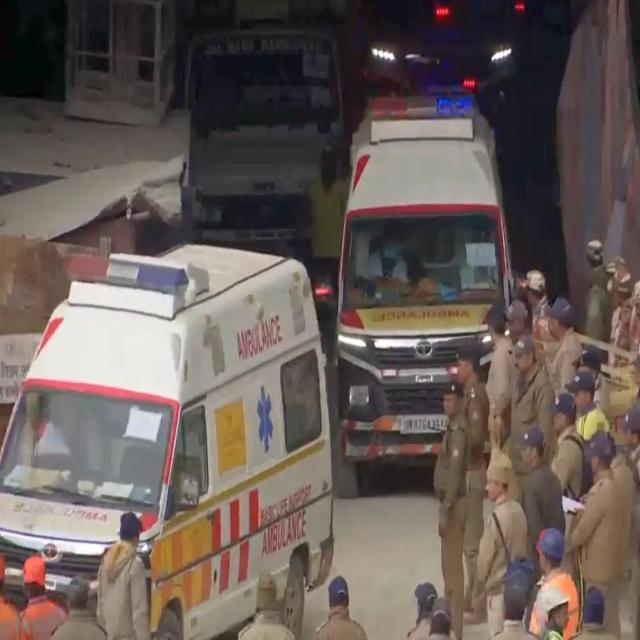emergency: (0, 244, 332, 638), (338, 93, 511, 494)
